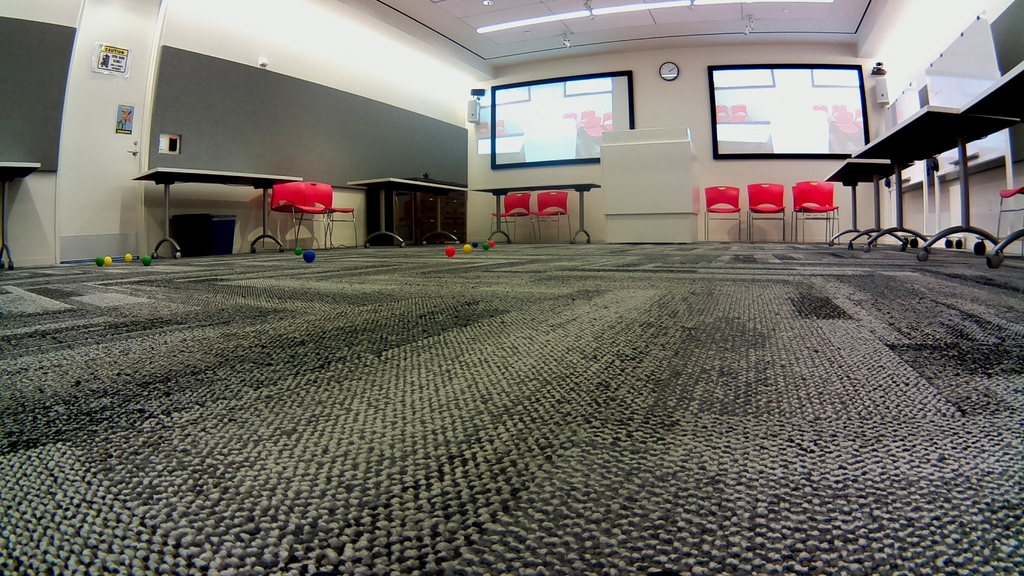ball: (95, 256, 104, 267)
